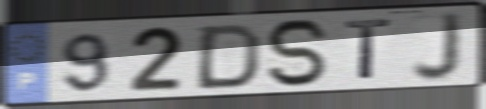2: (128, 24, 189, 96)
9: (59, 30, 118, 94)
D: (191, 21, 266, 91)
J: (409, 10, 466, 84)
S: (263, 17, 333, 90)
T: (342, 17, 394, 83)
